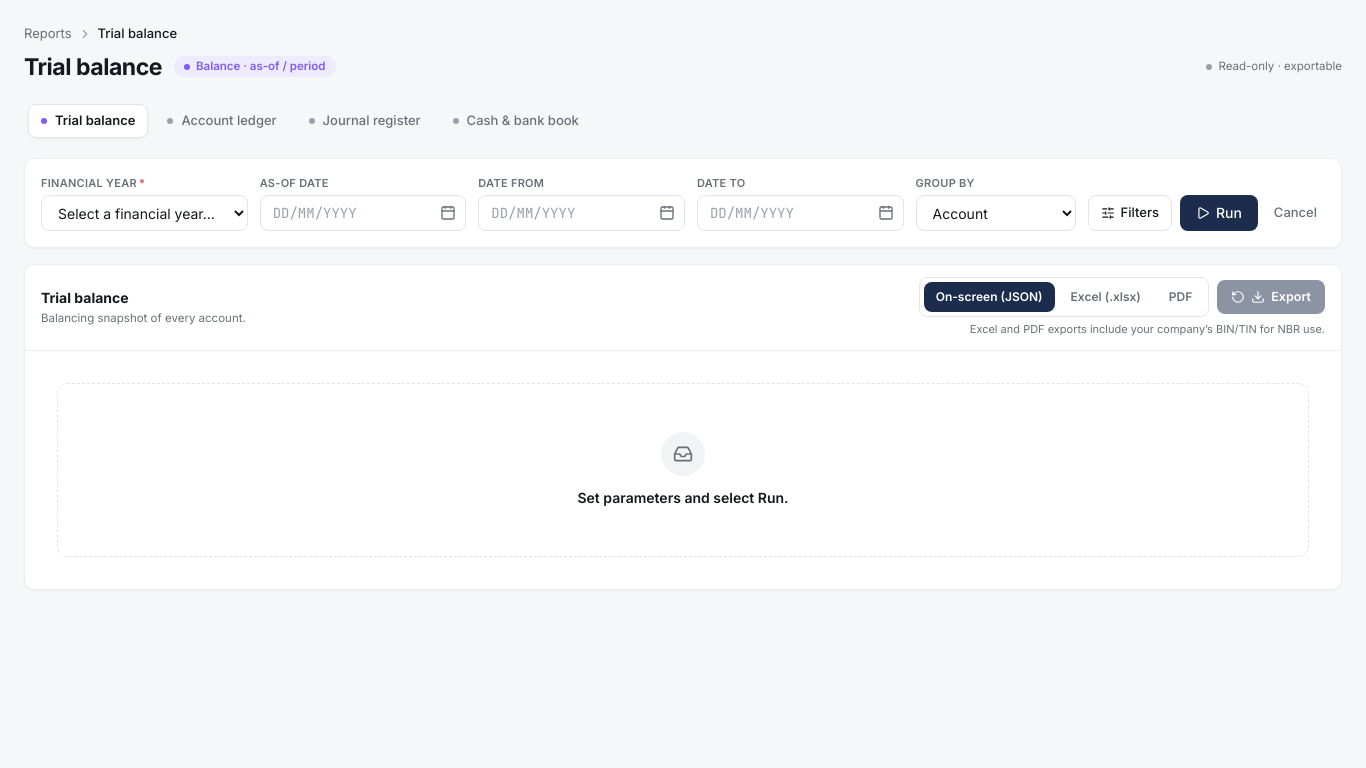
Test: Trial balance — balancing footer (FR-RPT-009) › renders the totals footer from API totals with a 'balanced' pill
This screenshot has width=1366, height=768.
Type "30/06/2026" into the field labelled "As-of date". click: point(363, 213)
box: [260,195,466,231]
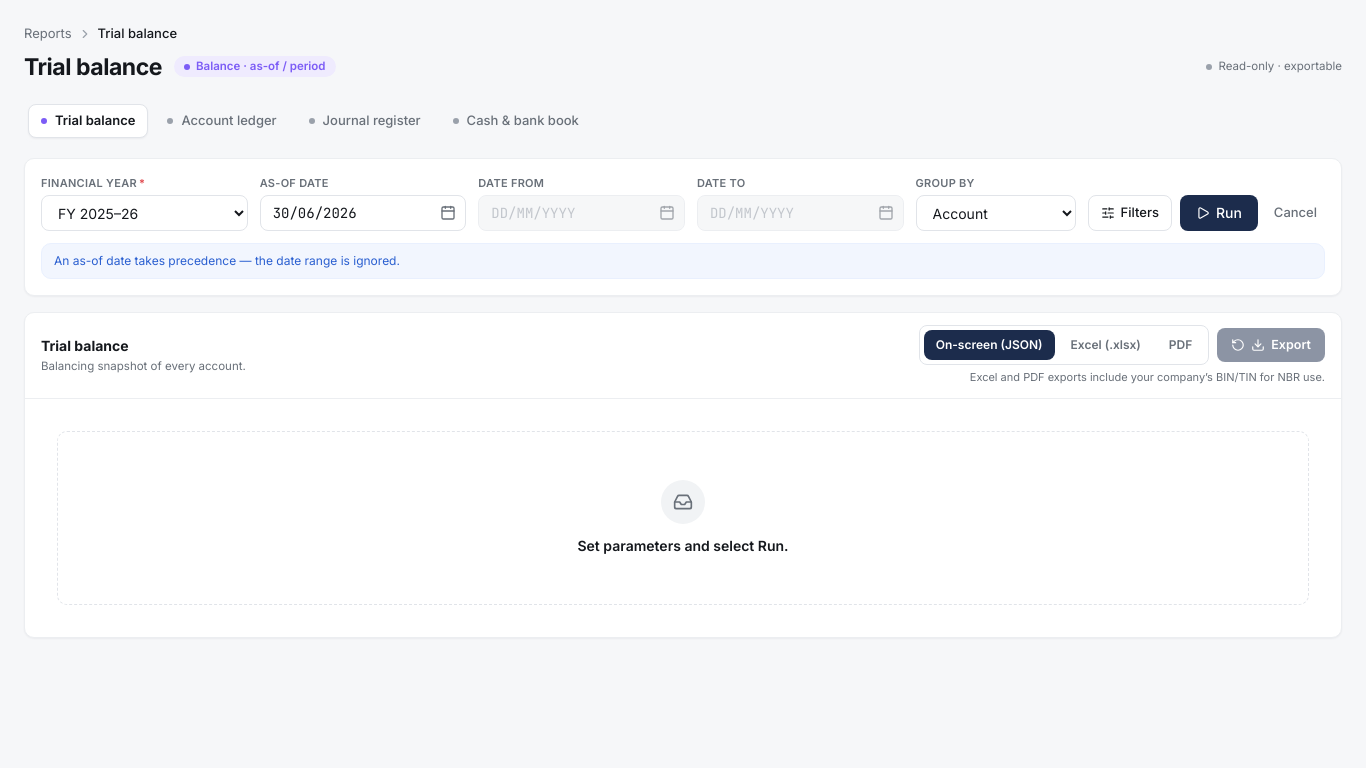
Click the button with test id "report-run". click: point(1219, 213)
box: [1180,195,1258,231]
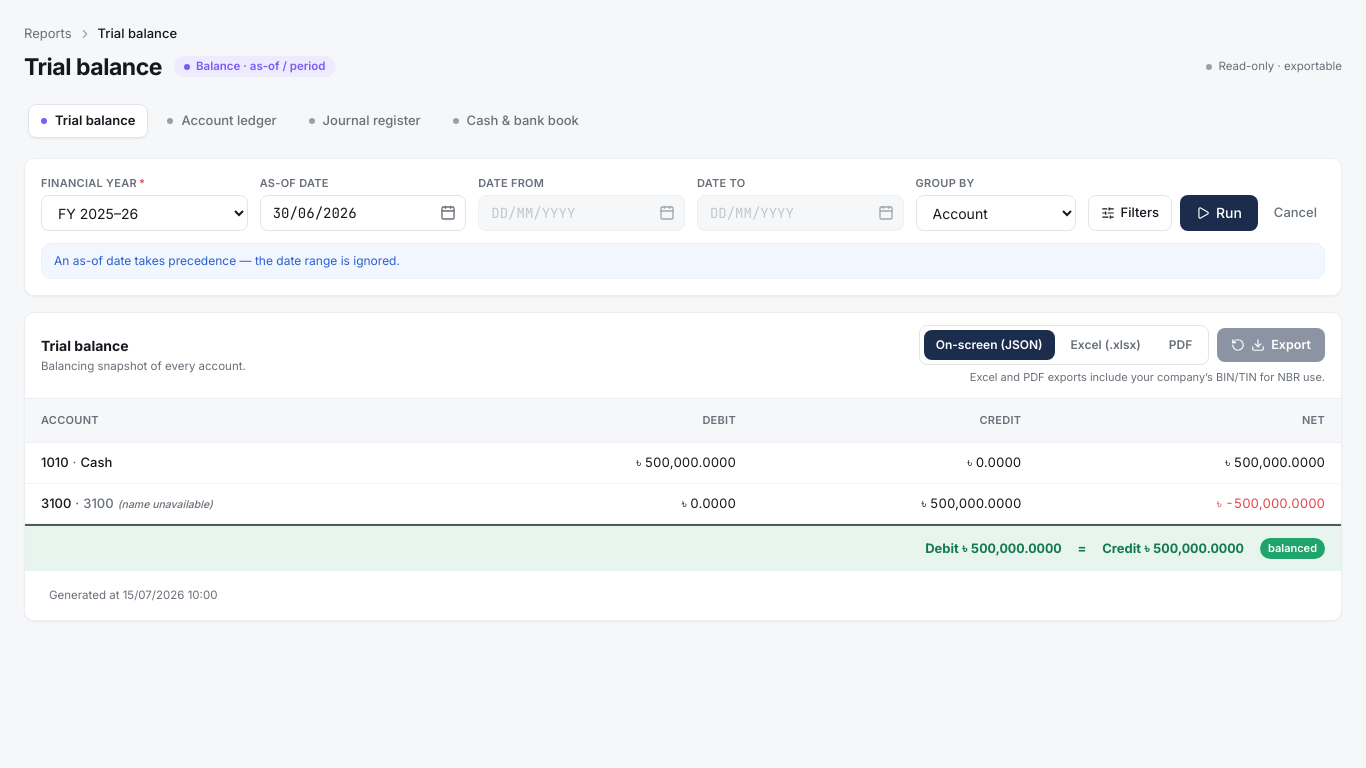
Now the element with test id "tb-table" is shown, box [25,398,1341,620]
Now the element with test id "tb-totals-footer" shows "Debit", box [925,540,962,556]
Now the element with test id "tb-totals-footer" shows "Credit", box [1102,540,1144,556]
